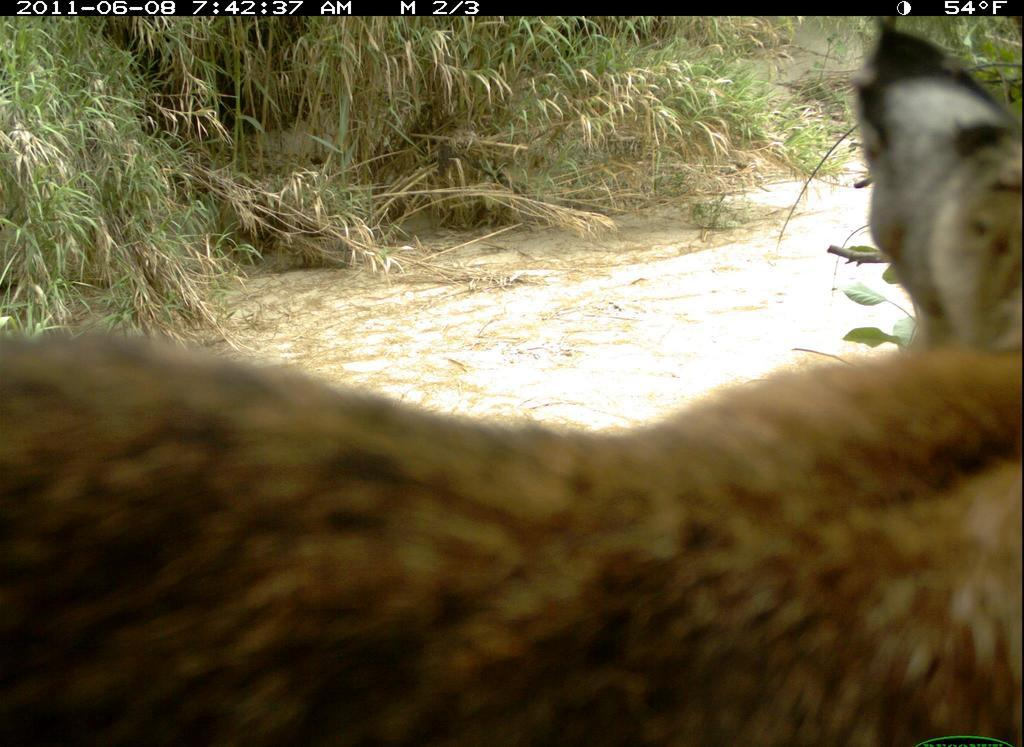bobcat: (4, 27, 1023, 747)
